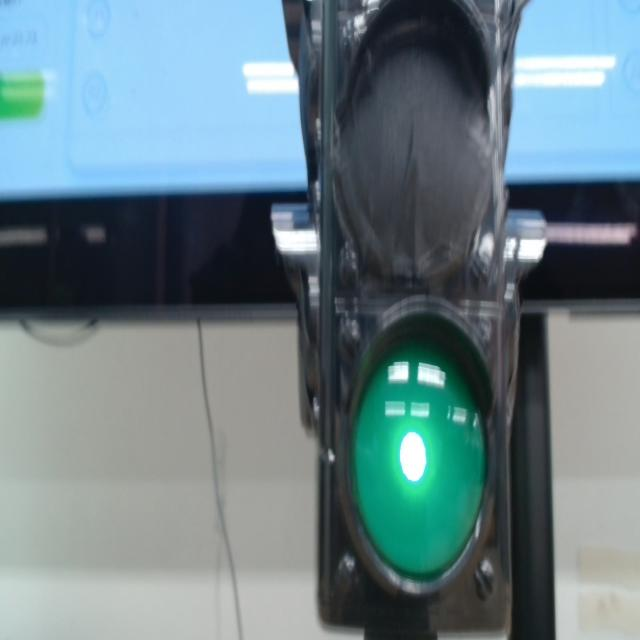green_light: (351, 339, 486, 580)
